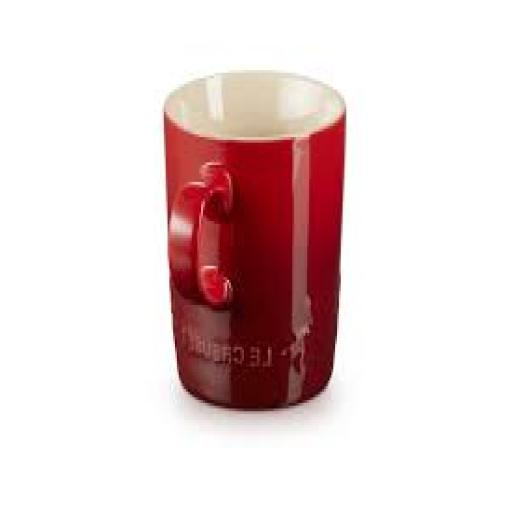red mug: (163, 73, 343, 408)
